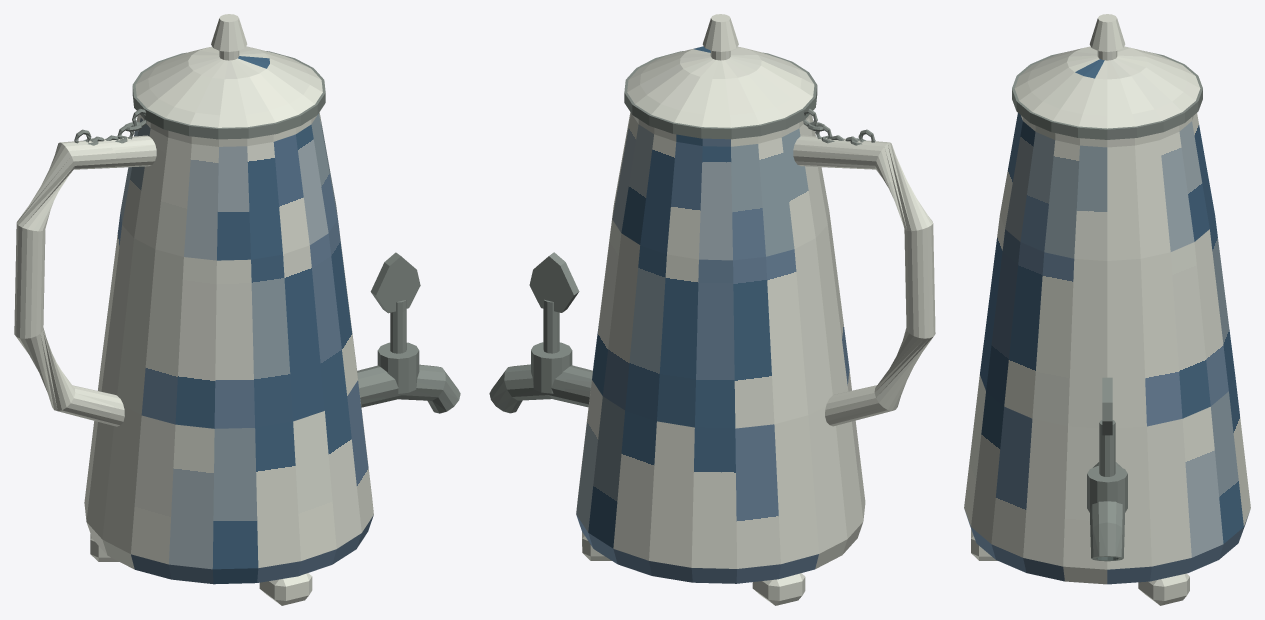
File: antique-arita-coffee.glb
The picture shows the model from 3 angles, left to right: view 1: azimuth 30°, elevation 25°; view 2: azimuth 150°, elevation 25°; view 3: azimuth 270°, elevation 25°; orthographic projection.
Parts seen in each view (by area): view 1: antique-arita-coffee/vessel-3, antique-arita-coffee/vessel-2, antique-arita-coffee/vessel-4, antique-arita-coffee/loop-handle, antique-arita-coffee/lid-4, antique-arita-coffee/vessel-1, antique-arita-coffee/lid-3, antique-arita-coffee/silver-tap-outer, antique-arita-coffee/lid-silver-rim, antique-arita-coffee/tap-foliate-lever, antique-arita-coffee/lid-5, antique-arita-coffee/tap-valve-collar (+4 smaller); view 2: antique-arita-coffee/vessel-3, antique-arita-coffee/vessel-2, antique-arita-coffee/vessel-4, antique-arita-coffee/loop-handle, antique-arita-coffee/lid-4, antique-arita-coffee/vessel-1, antique-arita-coffee/lid-3, antique-arita-coffee/silver-tap-outer, antique-arita-coffee/lid-silver-rim, antique-arita-coffee/tap-foliate-lever, antique-arita-coffee/lid-5, antique-arita-coffee/tap-valve-collar (+4 smaller); view 3: antique-arita-coffee/vessel-3, antique-arita-coffee/vessel-2, antique-arita-coffee/vessel-4, antique-arita-coffee/lid-4, antique-arita-coffee/vessel-1, antique-arita-coffee/lid-3, antique-arita-coffee/lid-silver-rim, antique-arita-coffee/silver-tap-outer, antique-arita-coffee/lid-5, antique-arita-coffee/tap-valve-collar, antique-arita-coffee/vessel-5, antique-arita-coffee/foot-1 (+3 smaller).
Part boxes in pixels (x1=…): antique-arita-coffee/vessel-3: x1=100, y1=210, x2=357, y2=428; antique-arita-coffee/vessel-2: x1=84, y1=368, x2=373, y2=569; antique-arita-coffee/vessel-4: x1=120, y1=112, x2=337, y2=260; antique-arita-coffee/loop-handle: x1=14, y1=135, x2=156, y2=426; antique-arita-coffee/lid-4: x1=148, y1=47, x2=309, y2=115; antique-arita-coffee/vessel-1: x1=86, y1=515, x2=373, y2=584; antique-arita-coffee/lid-3: x1=135, y1=56, x2=322, y2=127; antique-arita-coffee/silver-tap-outer: x1=357, y1=364, x2=460, y2=413; antique-arita-coffee/lid-silver-rim: x1=132, y1=51, x2=325, y2=139; antique-arita-coffee/tap-foliate-lever: x1=370, y1=252, x2=420, y2=313; antique-arita-coffee/lid-5: x1=188, y1=46, x2=269, y2=79; antique-arita-coffee/tap-valve-collar: x1=377, y1=342, x2=419, y2=393; antique-arita-coffee/vessel-3: x1=592, y1=207, x2=849, y2=428; antique-arita-coffee/vessel-2: x1=576, y1=368, x2=865, y2=568; antique-arita-coffee/vessel-4: x1=612, y1=112, x2=829, y2=260; antique-arita-coffee/loop-handle: x1=793, y1=135, x2=935, y2=426; antique-arita-coffee/lid-4: x1=640, y1=47, x2=801, y2=115; antique-arita-coffee/vessel-1: x1=576, y1=515, x2=862, y2=583; antique-arita-coffee/lid-3: x1=627, y1=56, x2=814, y2=127; antique-arita-coffee/silver-tap-outer: x1=489, y1=364, x2=592, y2=413; antique-arita-coffee/lid-silver-rim: x1=624, y1=51, x2=817, y2=139; antique-arita-coffee/tap-foliate-lever: x1=529, y1=252, x2=579, y2=312; antique-arita-coffee/lid-5: x1=680, y1=46, x2=761, y2=78; antique-arita-coffee/tap-valve-collar: x1=531, y1=342, x2=572, y2=393; antique-arita-coffee/vessel-3: x1=980, y1=215, x2=1234, y2=428; antique-arita-coffee/vessel-2: x1=964, y1=374, x2=1250, y2=569; antique-arita-coffee/vessel-4: x1=1000, y1=113, x2=1214, y2=260; antique-arita-coffee/lid-4: x1=1027, y1=48, x2=1187, y2=115; antique-arita-coffee/vessel-1: x1=965, y1=512, x2=1249, y2=584; antique-arita-coffee/lid-3: x1=1014, y1=54, x2=1200, y2=128; antique-arita-coffee/lid-silver-rim: x1=1012, y1=51, x2=1202, y2=139; antique-arita-coffee/silver-tap-outer: x1=1089, y1=462, x2=1125, y2=558; antique-arita-coffee/lid-5: x1=1067, y1=46, x2=1147, y2=79; antique-arita-coffee/tap-valve-collar: x1=1087, y1=466, x2=1127, y2=512; antique-arita-coffee/vessel-5: x1=1021, y1=115, x2=1193, y2=147; antique-arita-coffee/foot-1: x1=1138, y1=573, x2=1189, y2=605.
Bounding box in the file's own units: 0.625 × 0.7269 × 0.3519.
Materials: 5 (5 with a texture image).
